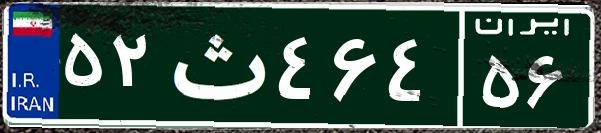2: (110, 28, 158, 105)
4: (385, 28, 445, 110), (273, 28, 330, 110)
5: (57, 26, 110, 107), (475, 38, 525, 113)
6: (330, 28, 385, 110), (525, 38, 570, 115)
ث: (158, 15, 273, 115)
